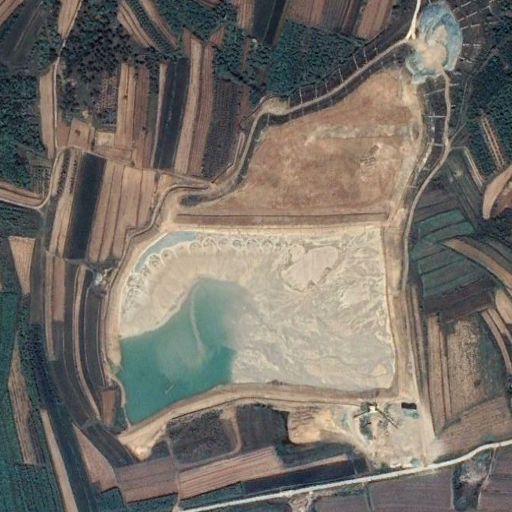tp: (105, 209, 414, 427)
